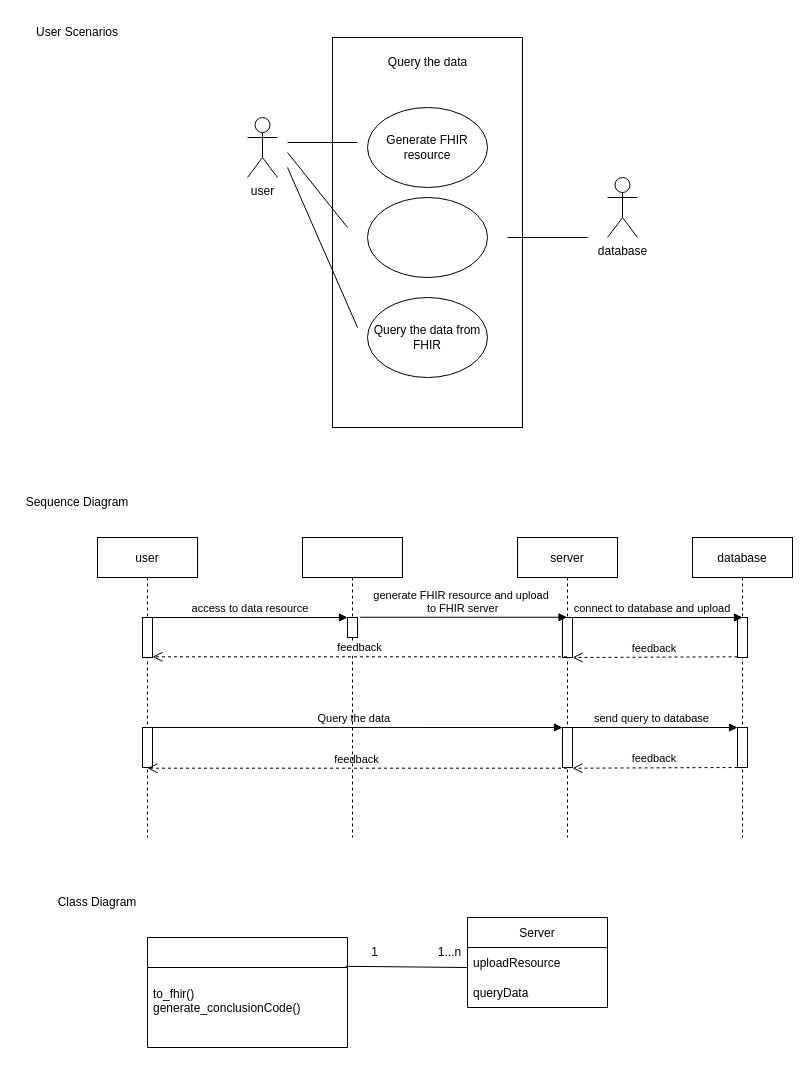
Some shapes in this 810 by 1065 pixel diagram are drawn without their labels. Here are the shapes that lost their labels. From the top down, the box of each, then its label:
(366, 196, 488, 278): Upload the resource to FHIR
(302, 536, 402, 838): data resource
(146, 936, 348, 1048): Data
